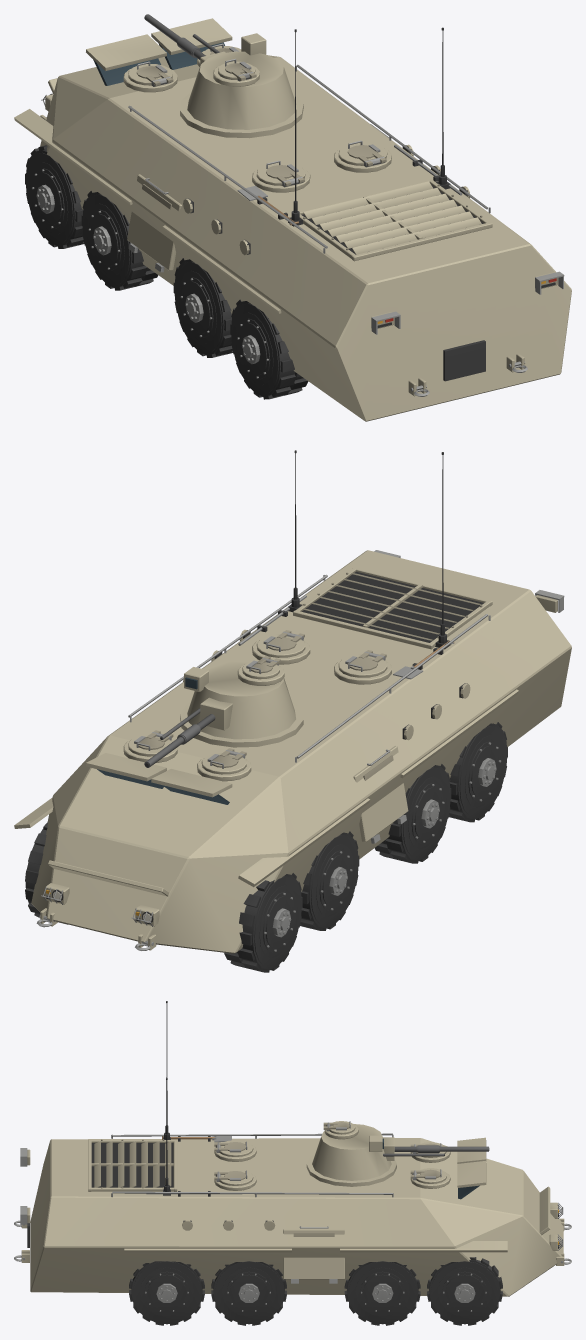
Rendered from rus_apc_btr80.glb.
3 renders of one model, top to bottom at view 1: azimuth 30°, elevation 25°; view 2: azimuth 150°, elevation 25°; view 3: azimuth 270°, elevation 25°, orthographic. The views are drawn at different scales.
Parts seen in each view (by area): view 1: body, turret, wheel_6, wheel_2, wheel_0, wheel_4, barrel; view 2: body, turret, wheel_0, wheel_4, wheel_6, wheel_2, barrel, wheel_1; view 3: body, turret, wheel_1, wheel_7, wheel_5, wheel_3, barrel.
Boxes of the visible parts, bbox=[...] form: body: bbox=[14, 18, 571, 421]; turret: bbox=[180, 33, 303, 138]; wheel_6: bbox=[230, 299, 308, 399]; wheel_2: bbox=[81, 191, 158, 290]; wheel_0: bbox=[25, 145, 84, 248]; wheel_4: bbox=[173, 258, 232, 357]; barrel: bbox=[144, 14, 225, 64]; body: bbox=[14, 450, 571, 953]; turret: bbox=[180, 656, 303, 747]; wheel_0: bbox=[224, 873, 302, 972]; wheel_4: bbox=[374, 764, 451, 863]; wheel_6: bbox=[448, 722, 507, 822]; wheel_2: bbox=[300, 831, 359, 930]; barrel: bbox=[144, 697, 232, 767]; wheel_1: bbox=[25, 822, 67, 924]; body: bbox=[14, 1001, 571, 1296]; turret: bbox=[306, 1121, 396, 1186]; wheel_1: bbox=[427, 1257, 502, 1325]; wheel_7: bbox=[129, 1261, 204, 1325]; wheel_5: bbox=[211, 1261, 286, 1325]; wheel_3: bbox=[344, 1261, 420, 1325]; barrel: bbox=[383, 1137, 489, 1160].
Size of the model in its own units: 3.01 by 4.17 by 8.15.
